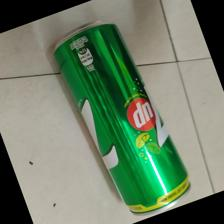7up: (50, 20, 193, 214)
